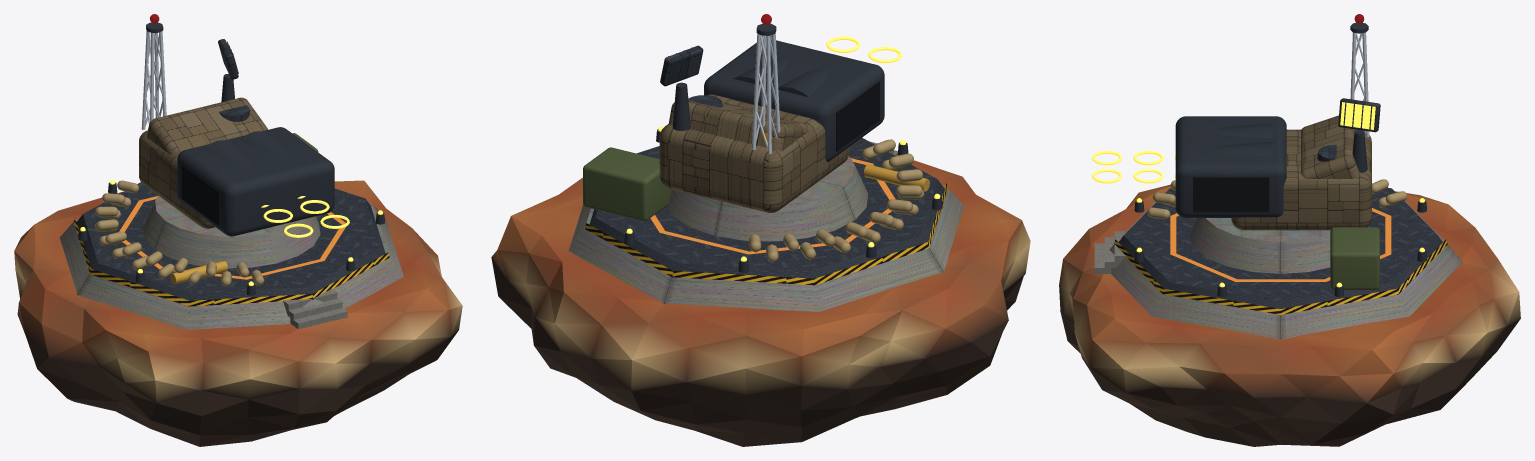
The model's file is howitzer-L25.glb.
3 renders of one model, left to right at view 1: azimuth 30°, elevation 25°; view 2: azimuth 150°, elevation 25°; view 3: azimuth 270°, elevation 25°, orthographic. The views are drawn at different scales.
Visible parts, largest first — view 1: object 1, anim:rc (×2), object 4, anim:yaw, object 2, object 49, object 3, object 5, object 22, object 23, anim:rot; view 2: object 1, anim:yaw, object 4, object 2, anim:rc (×2), object 49, object 45, object 3, anim:rot, object 5; view 3: object 1, object 4, anim:rc (×2), anim:yaw, object 2, object 49, object 45, object 3, anim:rot, object 5.
Part boxes in pixels (<box>): object 1: <box>14,180,462,446</box>; anim:rc (×2): <box>177,127,349,237</box>; object 4: <box>77,182,385,300</box>; anim:yaw: <box>139,14,267,228</box>; object 2: <box>59,204,403,329</box>; object 49: <box>143,196,320,268</box>; object 3: <box>73,217,389,306</box>; object 5: <box>119,196,345,279</box>; object 22: <box>290,308,347,329</box>; object 23: <box>285,298,342,319</box>; anim:rot: <box>218,39,238,79</box>; object 1: <box>491,160,1030,446</box>; anim:yaw: <box>659,14,849,213</box>; object 4: <box>589,137,944,278</box>; object 2: <box>568,184,963,311</box>; anim:rc (×2): <box>704,36,901,161</box>; object 49: <box>666,156,868,241</box>; object 45: <box>583,147,671,221</box>; object 3: <box>585,183,947,285</box>; anim:rot: <box>660,45,703,86</box>; object 5: <box>650,158,895,254</box>; object 1: <box>1059,184,1520,446</box>; object 4: <box>1118,188,1442,308</box>; anim:rc (×2): <box>1092,116,1286,217</box>; anim:yaw: <box>1231,14,1371,230</box>; object 2: <box>1109,201,1462,339</box>; object 49: <box>1190,218,1368,273</box>; object 45: <box>1330,227,1379,289</box>; object 3: <box>1114,239,1447,314</box>; anim:rot: <box>1338,98,1380,132</box>; object 5: <box>1170,208,1391,281</box>.
Size of the model in its own units: 5.61 by 4.87 by 5.58.
16 materials, 5 textured.
